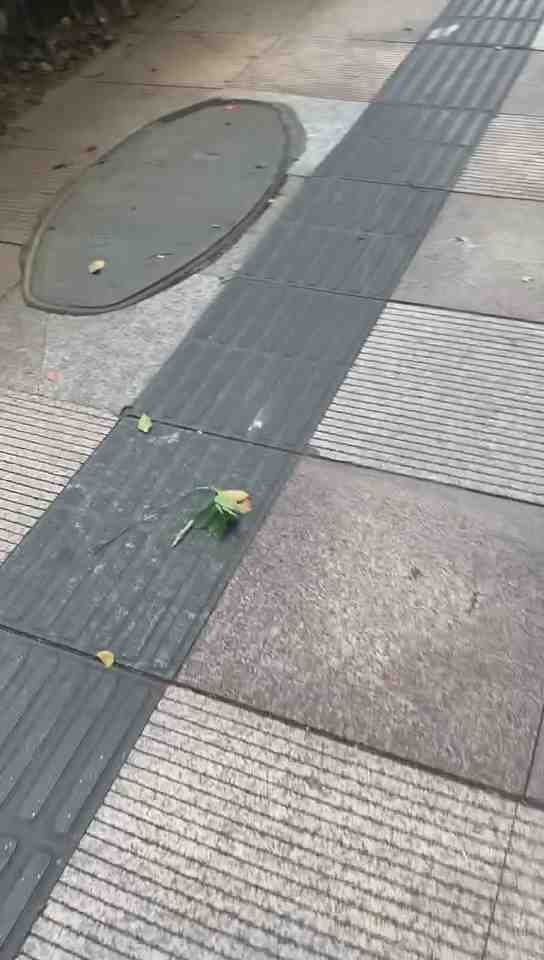leaf: (91, 647, 120, 673), (85, 254, 110, 279), (135, 408, 155, 437)
